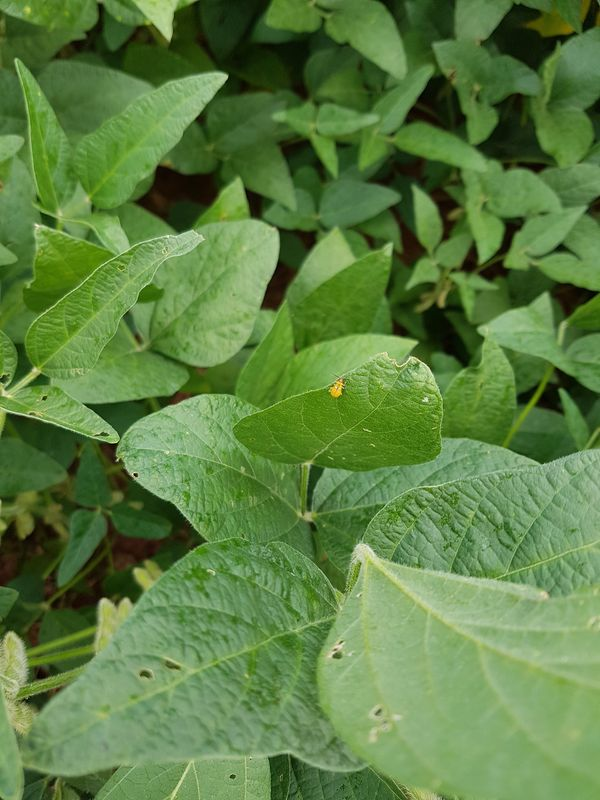Diabrotica_speciosa: (325, 372, 351, 402)
